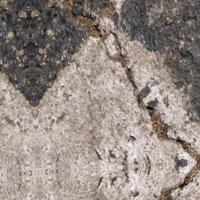crack: (87, 27, 197, 199)
